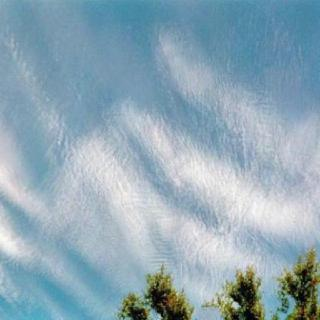Cirrocumulus: (0, 0, 320, 312)
